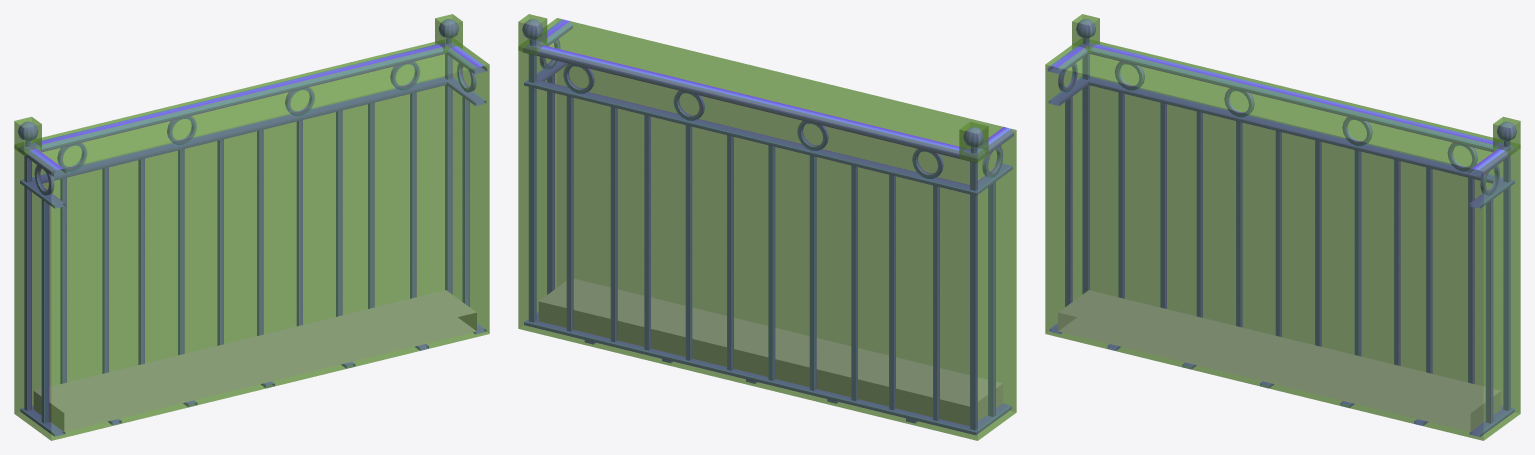
Rendered from F_Balcony_S_01.fbx.
The picture shows the model from 3 angles, left to right: view 1: azimuth 30°, elevation 25°; view 2: azimuth 150°, elevation 25°; view 3: azimuth 330°, elevation 25°; orthographic projection. The views are drawn at different scales.
Parts seen in each view (by area): view 1: F_Balcony_S_01_col_03, F_Balcony_S_01_LOD0, F_Balcony_S_01_col_01, F_Balcony_S_01_col_02; view 2: F_Balcony_S_01_col_03, F_Balcony_S_01_LOD0, F_Balcony_S_01_col_01, F_Balcony_S_01_col_02; view 3: F_Balcony_S_01_col_03, F_Balcony_S_01_LOD0, F_Balcony_S_01_col_02, F_Balcony_S_01_col_01.
Part boxes in pixels (x1,y1,x2,y2): F_Balcony_S_01_col_03: [14, 38, 489, 440]; F_Balcony_S_01_LOD0: [18, 19, 487, 436]; F_Balcony_S_01_col_01: [14, 116, 41, 155]; F_Balcony_S_01_col_02: [435, 14, 462, 52]; F_Balcony_S_01_col_03: [518, 18, 1016, 440]; F_Balcony_S_01_LOD0: [522, 19, 1013, 434]; F_Balcony_S_01_col_01: [959, 121, 988, 162]; F_Balcony_S_01_col_02: [518, 14, 547, 54]; F_Balcony_S_01_col_03: [1045, 38, 1520, 440]; F_Balcony_S_01_LOD0: [1047, 19, 1516, 436]; F_Balcony_S_01_col_02: [1493, 116, 1520, 155]; F_Balcony_S_01_col_01: [1072, 14, 1099, 52].
Size of what is drawn, in the model's own units: 183 by 117 by 26.89.
